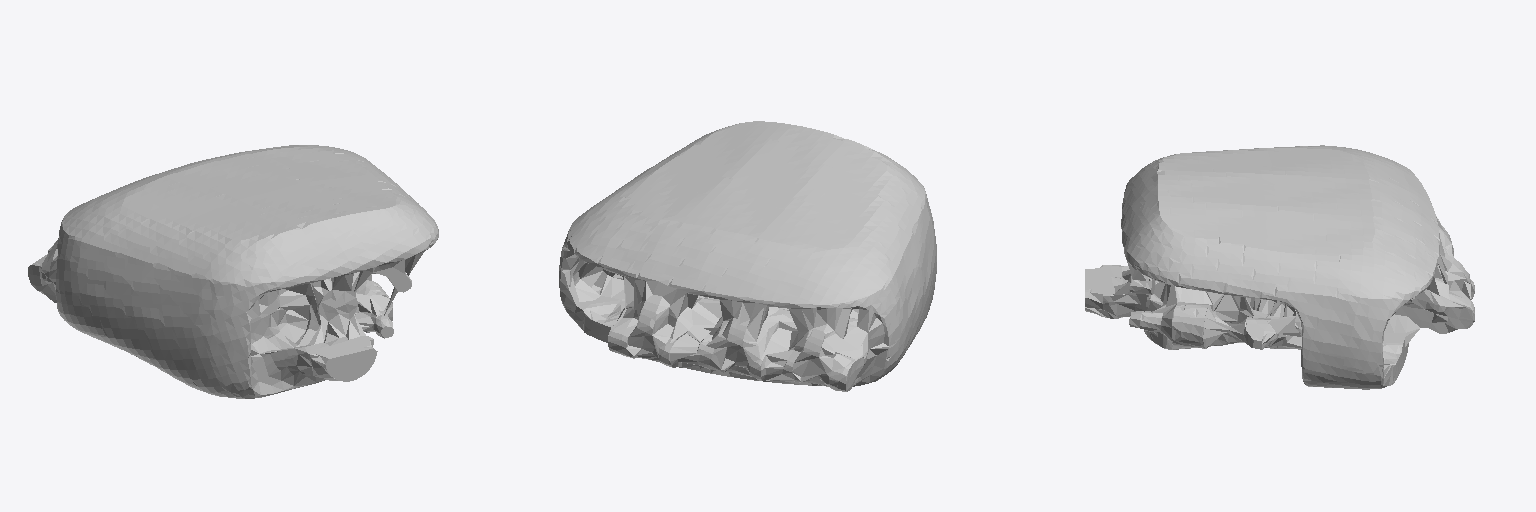
File: sim_ecub_1-0_l_hand_palm.obj
3 renders of one model, left to right at view 1: azimuth 30°, elevation 25°; view 2: azimuth 150°, elevation 25°; view 3: azimuth 270°, elevation 25°, orthographic.
Bounding box in the file's own units: 101 × 47.04 × 106.